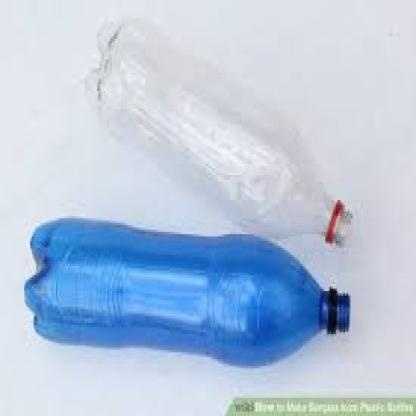trash: (89, 18, 327, 236), (25, 218, 331, 364)
